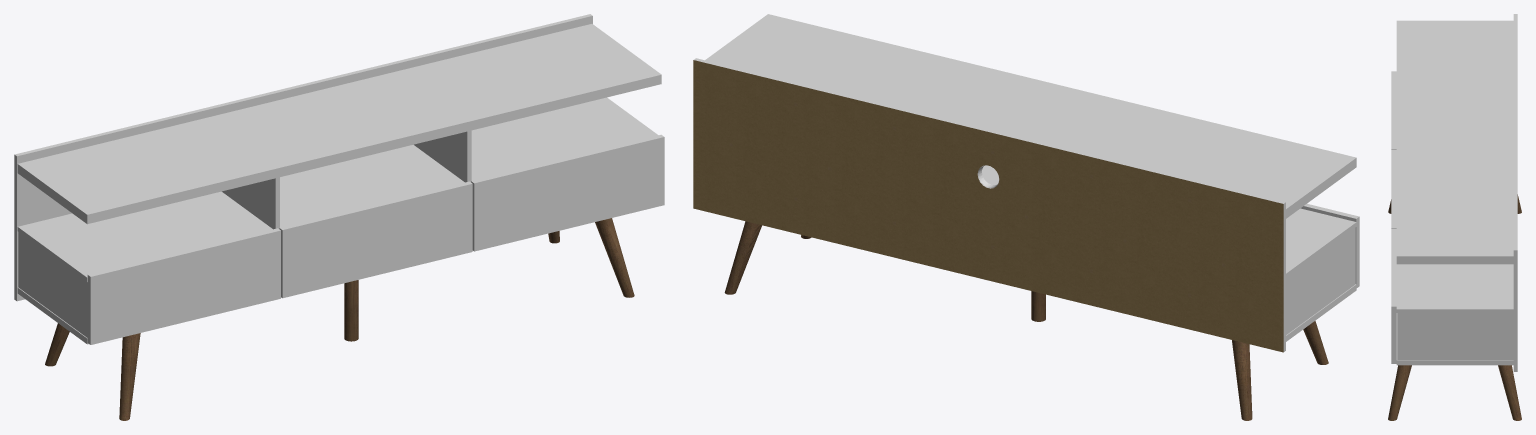
File: Rack6002.glb
3 renders of one model, left to right at view 1: azimuth 30°, elevation 25°; view 2: azimuth 150°, elevation 25°; view 3: azimuth 270°, elevation 25°, orthographic. The views are drawn at different scales.
Visible parts, largest first — view 1: Box001, Box002, Box008, 1, Box009, Box013, Box015, Box006, Box007, VIFS077, VIFS079, VIFS069; view 2: Box013, Box001, Box015, Box002, VIFS073, VIFS075, Box008; view 3: Box001, Box002, Box014, Box013, 1, Box011, VIFS079, VIFS075, Box008, Box009.
Part boxes in pixels (x1,y1,x2,y2): Box001: (17,24,661,224); Box002: (17,97,658,281); Box008: (87,228,280,344); 1: (471,134,664,251); Box009: (279,181,472,298); Box013: (14,14,592,301); Box015: (18,232,87,337); Box006: (414,130,471,182); Box007: (222,177,279,229); VIFS077: (119,333,140,420); VIFS079: (595,218,634,297); VIFS069: (344,280,358,341); Box013: (693,58,1285,352); Box001: (705,14,1356,218); Box015: (1286,227,1355,334); Box002: (982,165,1356,277); VIFS073: (1232,340,1252,420); VIFS075: (724,221,761,294); Box008: (1300,204,1359,287); Box001: (1396,20,1513,264); Box002: (1396,264,1513,312); Box014: (1397,313,1513,359); Box013: (1513,14,1517,371); 1: (1391,228,1396,363); Box011: (1396,313,1513,365); VIFS079: (1388,365,1411,420); VIFS075: (1498,365,1521,420); Box008: (1391,71,1396,149); Box009: (1391,150,1396,228).
Size of the model in its own units: 1.61 by 0.5816 by 0.3847.
Materials: 3 (2 with a texture image).
